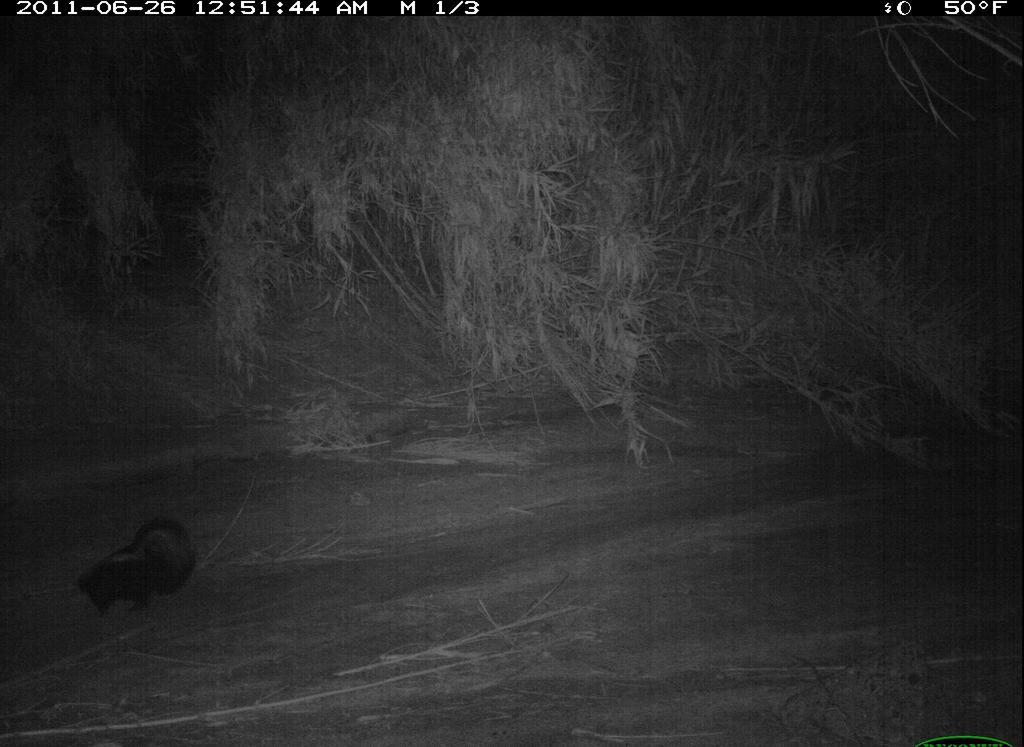skunk: (65, 509, 201, 625)
